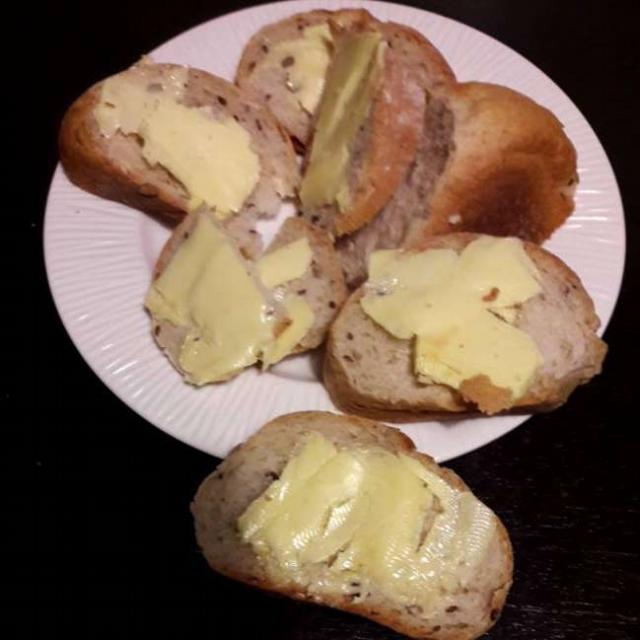bread-grain: (65, 22, 594, 626)
butter: (100, 23, 538, 593)
